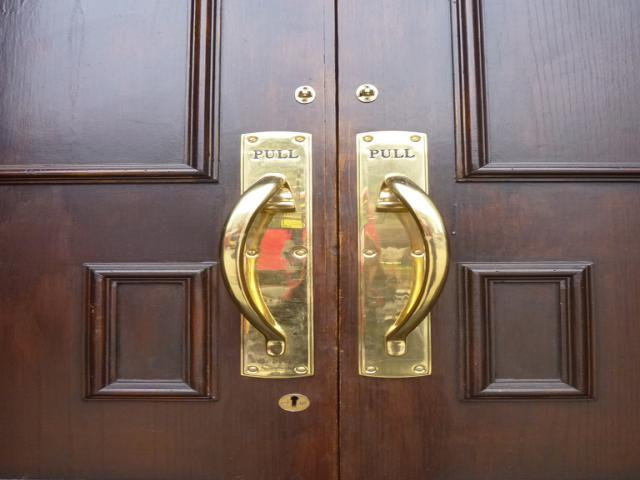Door-handle: (220, 130, 314, 381), (356, 130, 450, 380)
